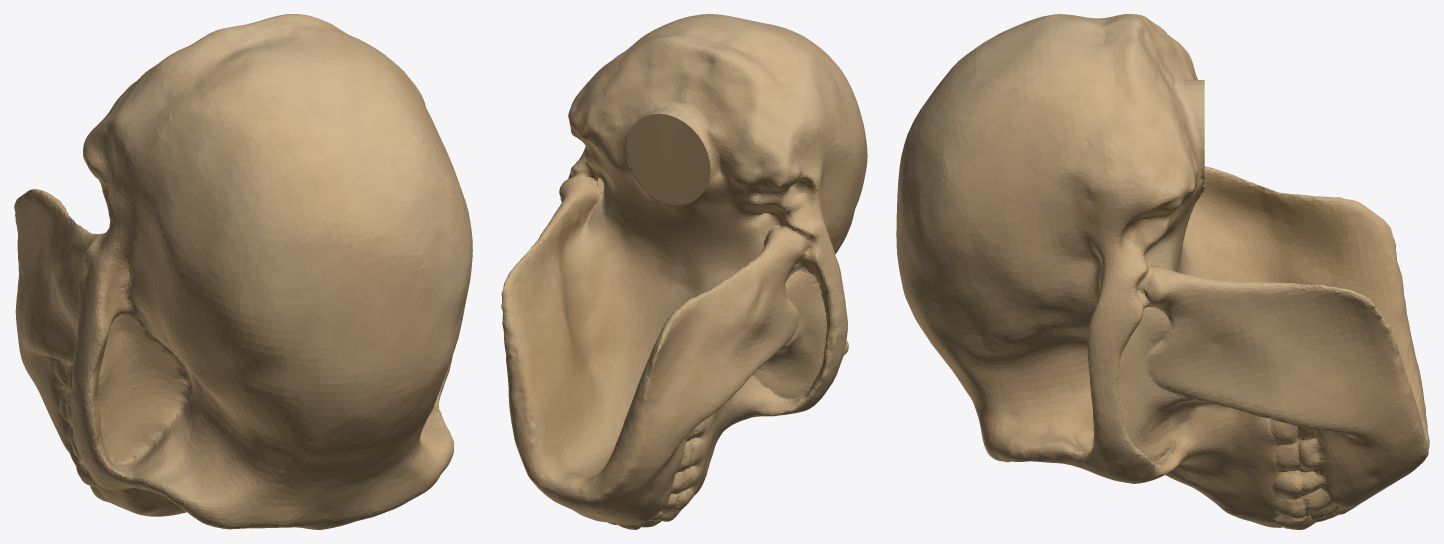
The model's file is africanus.glb.
3 views of the same model, side by side, from view 1: azimuth 30°, elevation 25°; view 2: azimuth 150°, elevation 25°; view 3: azimuth 270°, elevation 25° (orthographic). The views are drawn at different scales.
Size of the model in its own units: 31.75 by 45.64 by 45.11.
